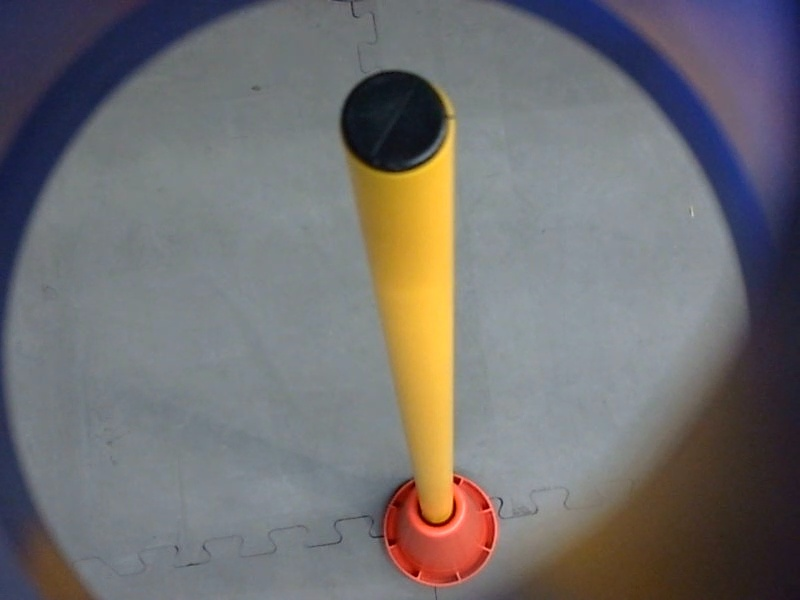tip: (330, 61, 463, 186)
